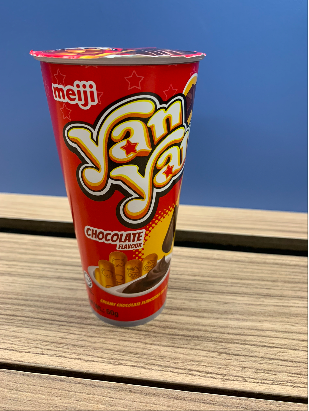Cookies_1-99g: (70, 67, 171, 305)
